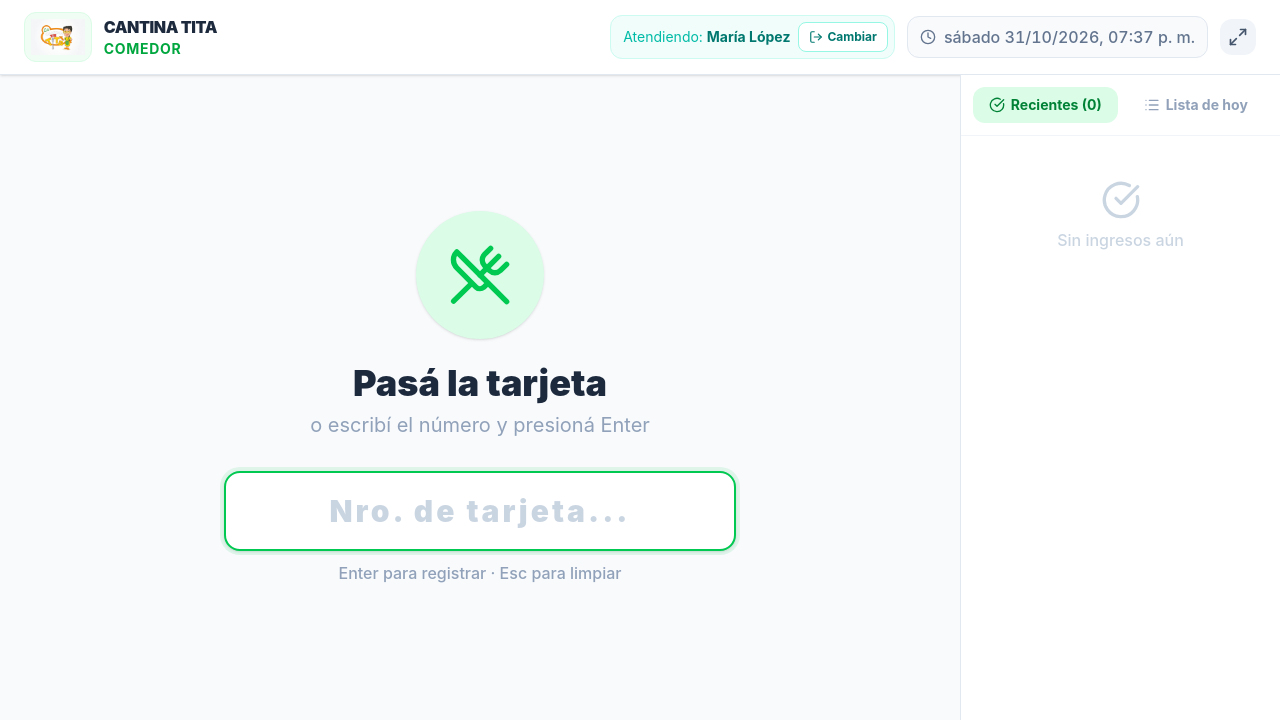
Test case: Comedor — flujo de escaneo › tarjeta no encontrada → panel de error "Tarjeta no encontrada"
This screenshot has width=1280, height=720.
Type "T-999" into the field with placeholder "Nro. de tarjeta..." at (480, 510), box left=224, top=470, right=736, bottom=550
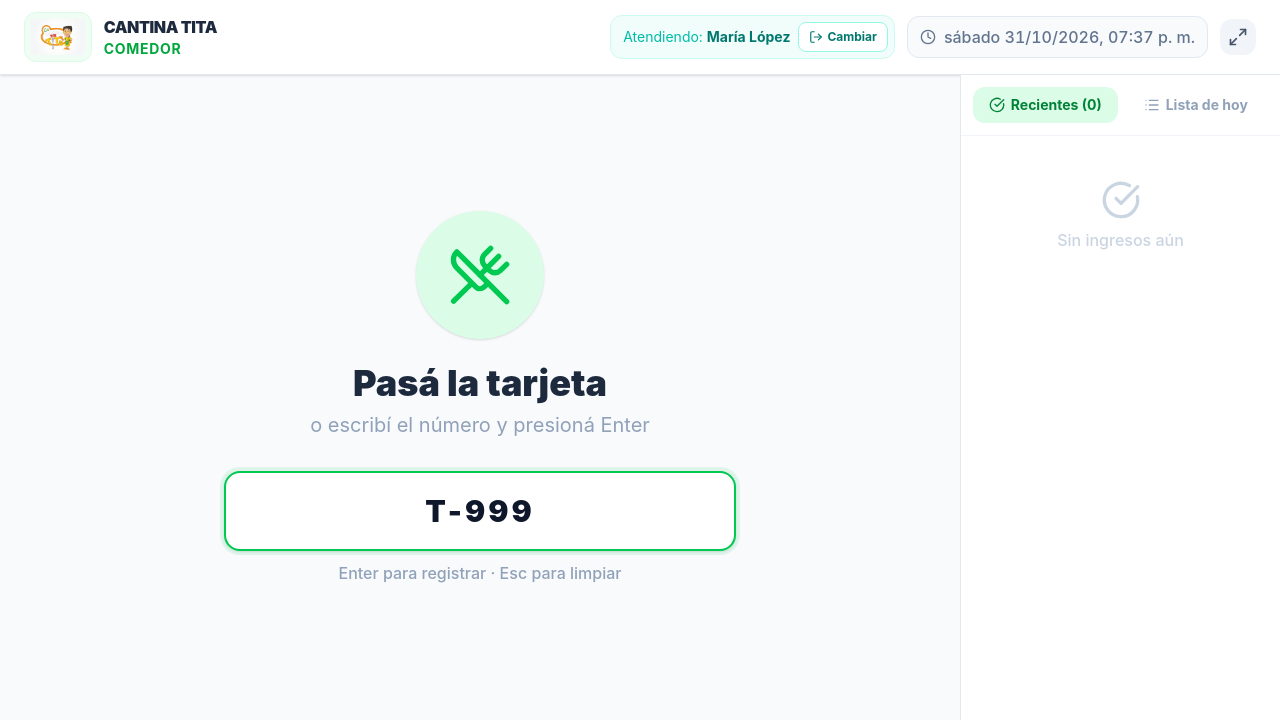
Press Enter
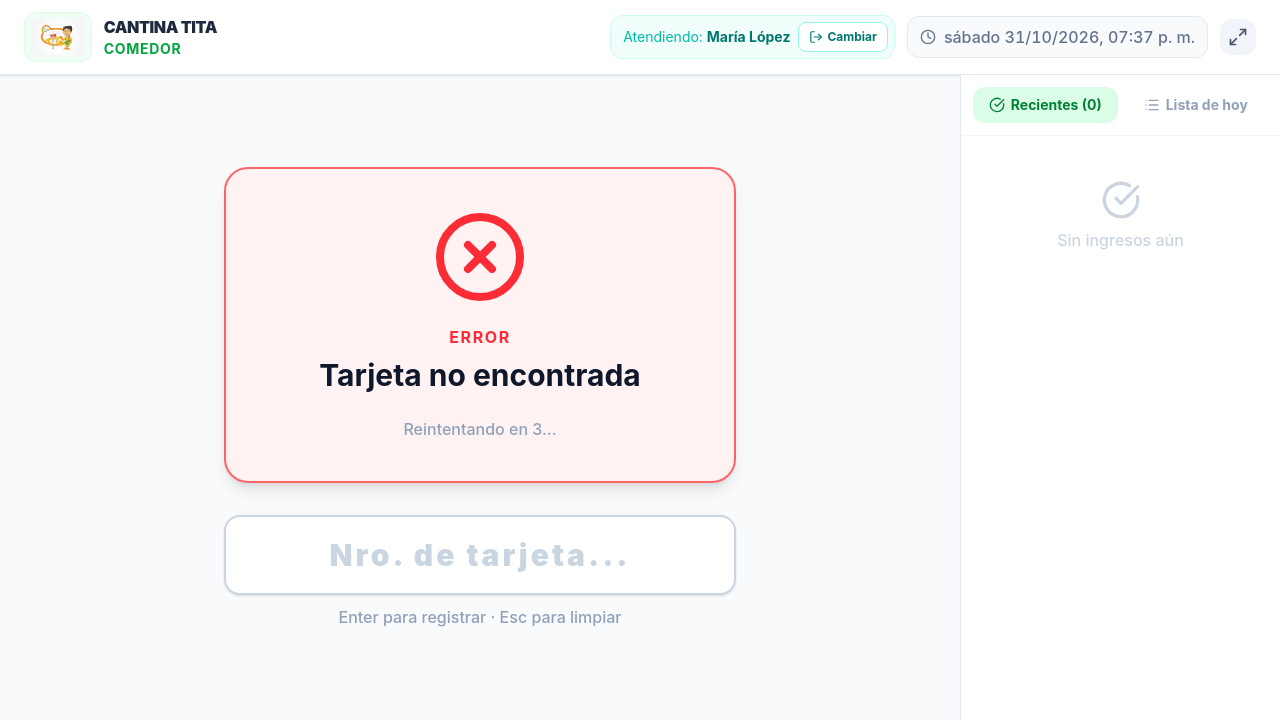
Check: the text "Tarjeta no encontrada" is shown, box left=319, top=356, right=641, bottom=392
